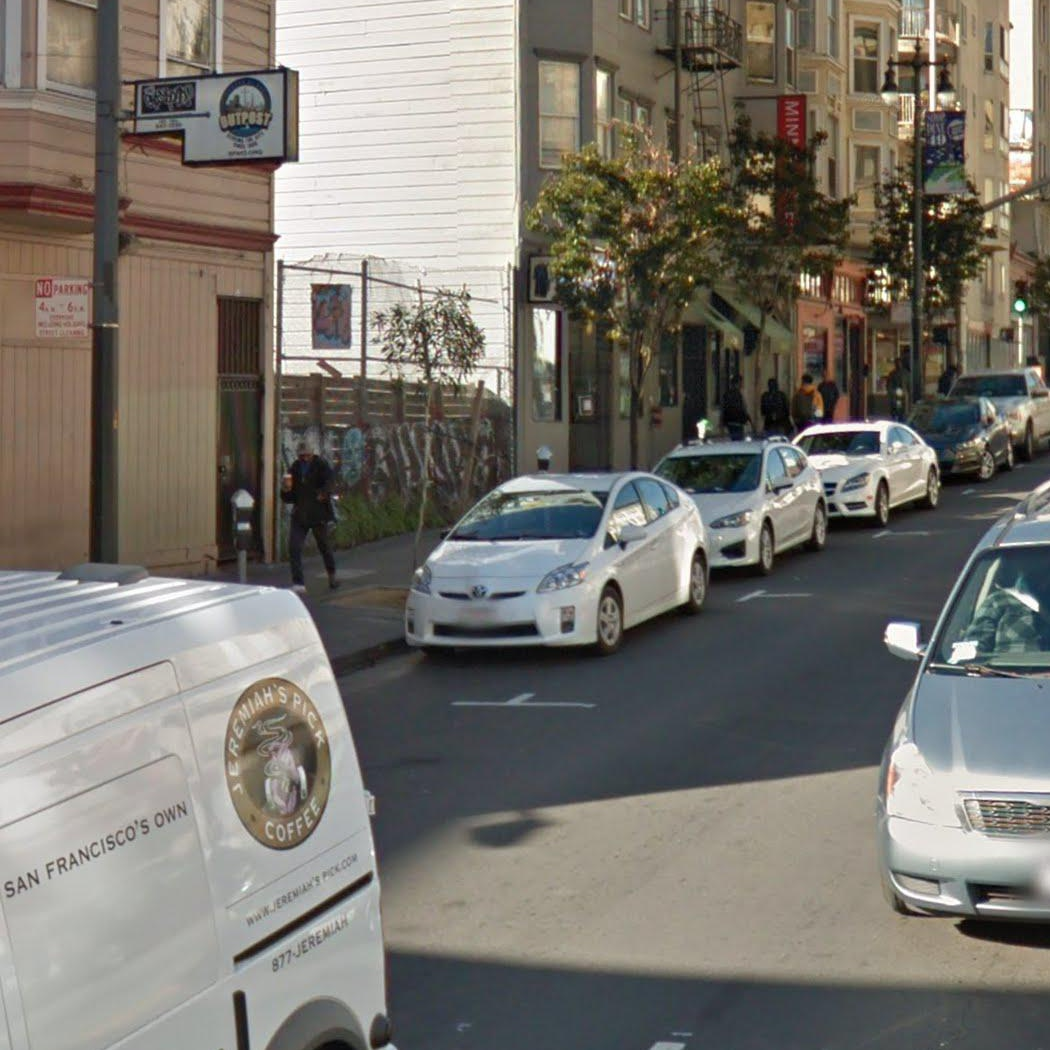No Parking: (30, 276, 91, 341)
